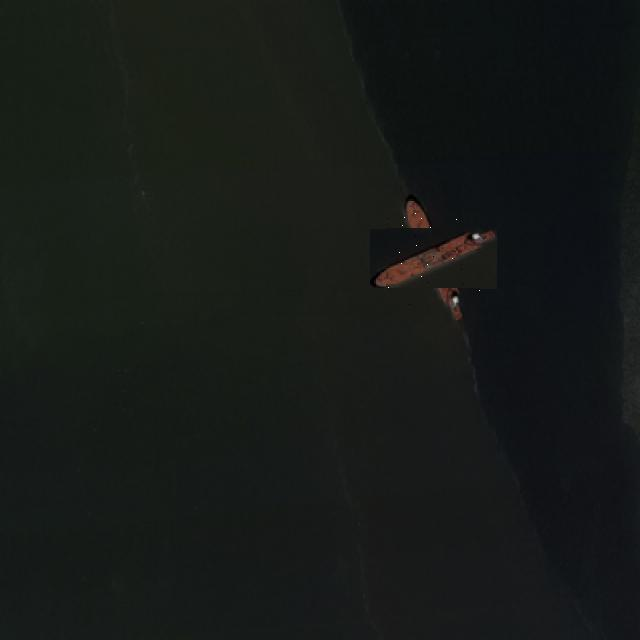boat: (386, 212, 481, 306)
